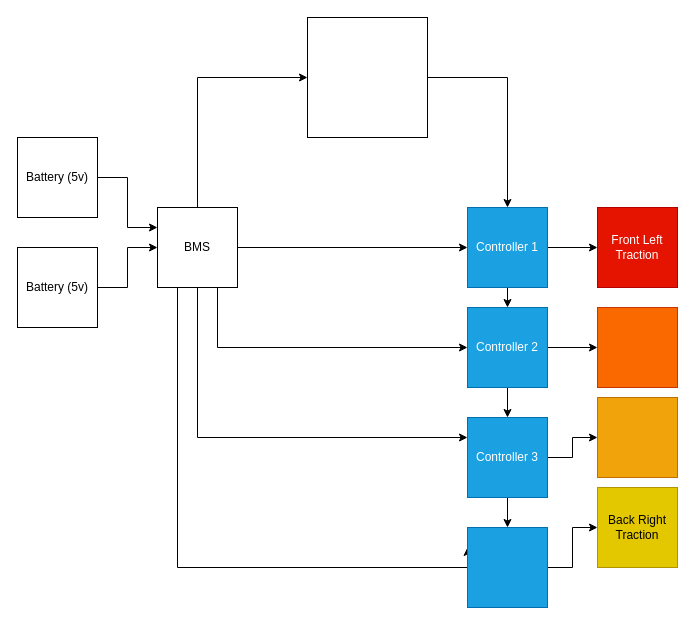
The diagram is 695 pixels wide and 625 high, and some of its shapes have lost their labels. Here are the shapes that lost their labels. From the top down, the centre of each, then its label:
At pixel 367 77: "DATA NODE/TELEMETRY".
At pixel 637 347: "Front Right Traction".
At pixel 637 437: "Back Left Traction".
At pixel 507 567: "Controller 4".
